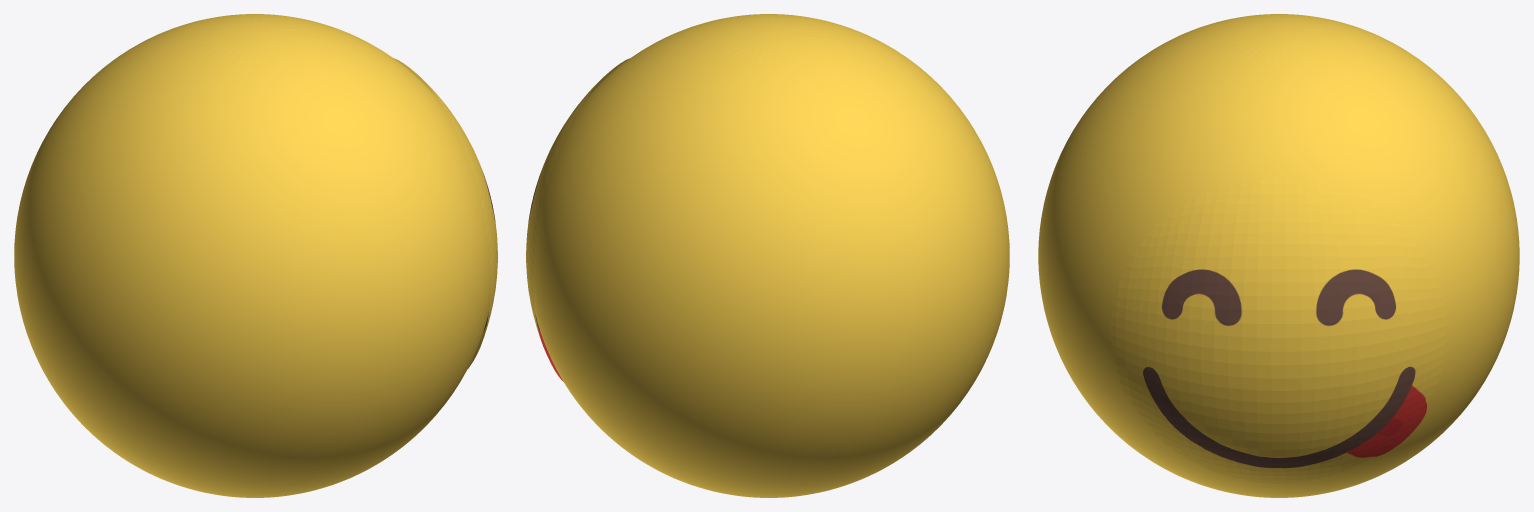
The model's file is tonge.fbx.
The picture shows the model from 3 angles, left to right: view 1: azimuth 30°, elevation 25°; view 2: azimuth 150°, elevation 25°; view 3: azimuth 270°, elevation 25°; orthographic projection.
Visible parts, largest first — view 1: 球体, tongue; view 2: 球体, tongue; view 3: 球体, tongue.
Part boxes in pixels (box(x1,y1,x2,y2)): 球体: box(14, 14, 490, 497); tongue: box(393, 58, 497, 368); 球体: box(533, 14, 1009, 497); tongue: box(526, 58, 629, 381); 球体: box(1038, 14, 1519, 497); tongue: box(1111, 177, 1446, 483).
Size of the model in its own units: 198 by 200 by 197.
2 materials, 2 textured.
